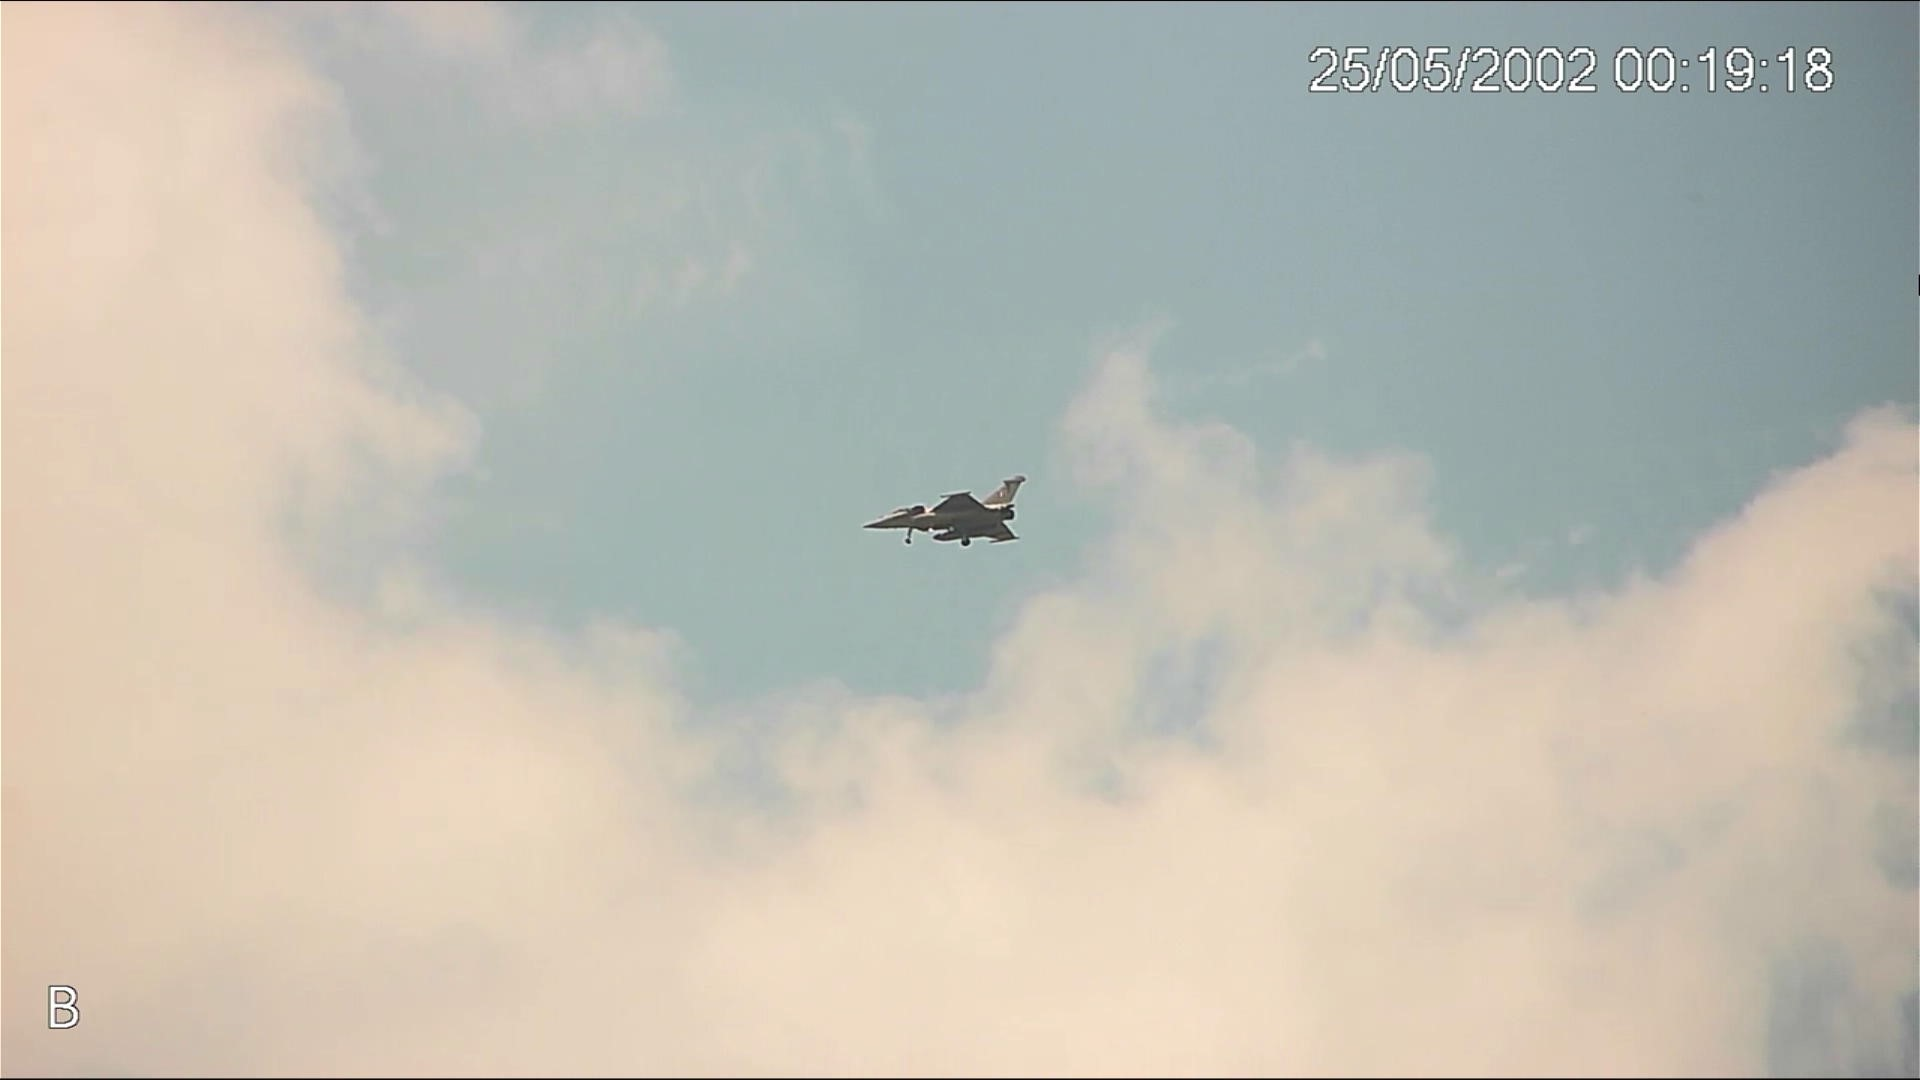SU_30: (858, 469, 1047, 558)
